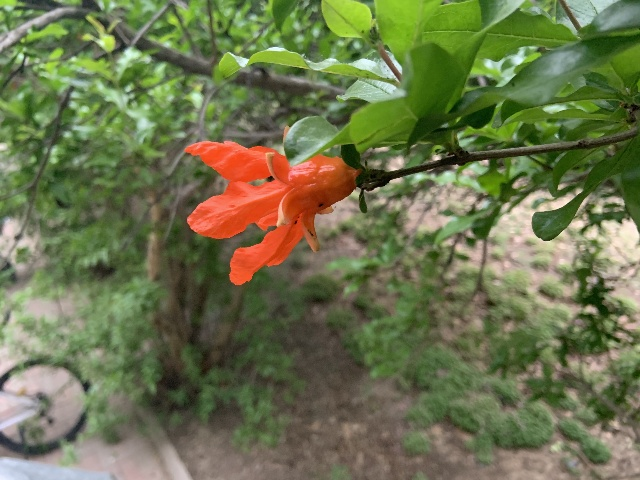flower: (183, 124, 360, 285)
